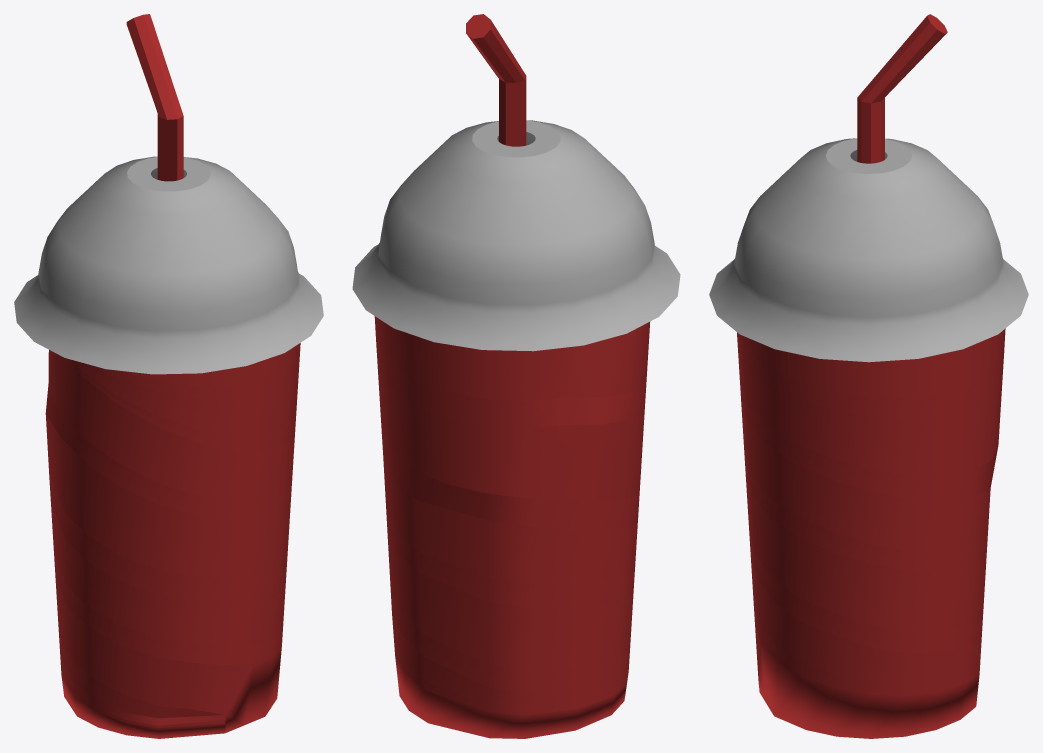
Rendered from SlushieV2.fbx.
3 renders of one model, left to right at view 1: azimuth 30°, elevation 25°; view 2: azimuth 150°, elevation 25°; view 3: azimuth 270°, elevation 25°, orthographic. The views are drawn at different scales.
Parts seen in each view (by area): view 1: pCylinder31; view 2: pCylinder31; view 3: pCylinder31.
Part boxes in pixels (bbox=[...]): pCylinder31: bbox=[14, 14, 323, 738]; pCylinder31: bbox=[352, 14, 680, 738]; pCylinder31: bbox=[709, 14, 1028, 738].
Size of the model in its own units: 2.14 by 4.99 by 2.14.
